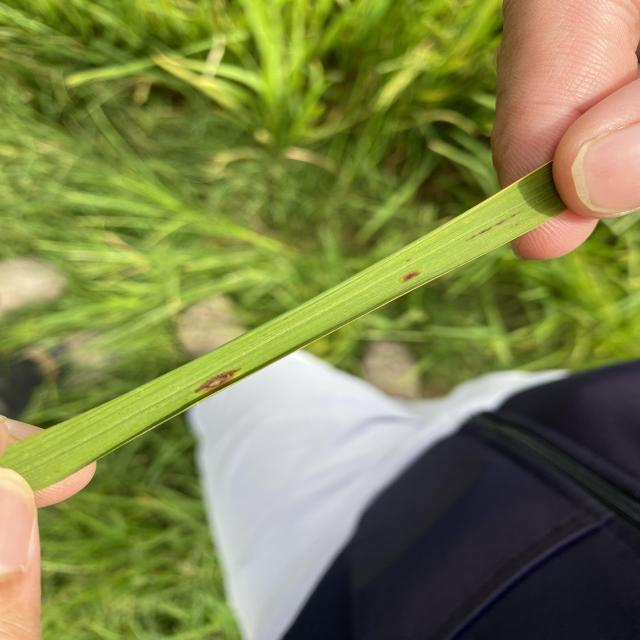Dom nau: (192, 367, 243, 393), (399, 269, 422, 284)
